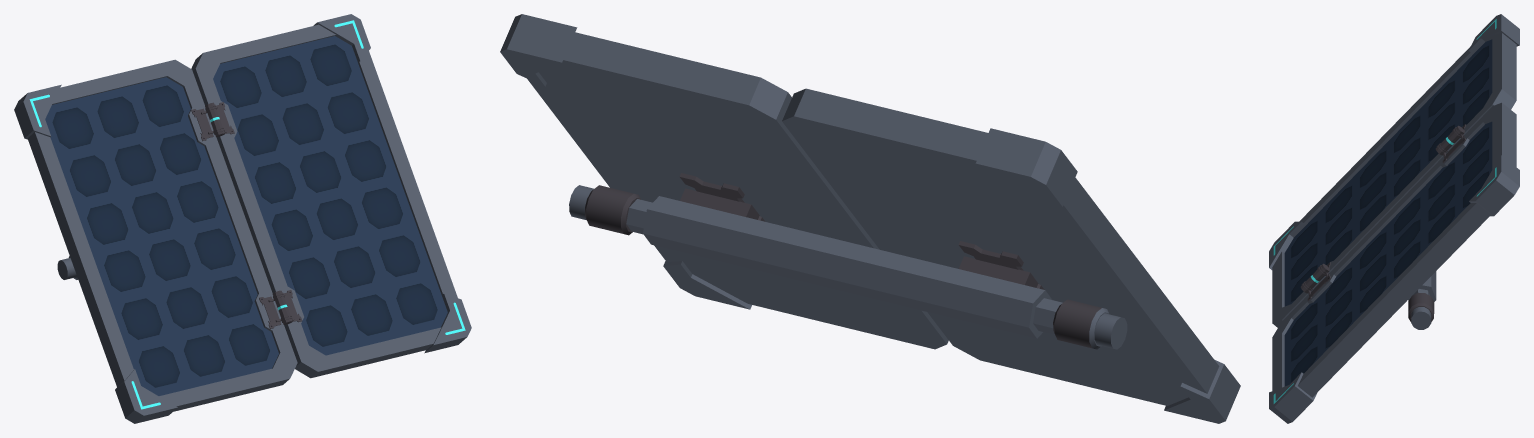
File: SM_Props_Device_11_SolarPanel.fbx
3 views of the same model, side by side, from view 1: azimuth 30°, elevation 25°; view 2: azimuth 150°, elevation 25°; view 3: azimuth 270°, elevation 25° (orthographic). The views are drawn at different scales.
Visible parts, largest first — view 1: SM_Props_Device_11_SolarPanel; view 2: SM_Props_Device_11_SolarPanel; view 3: SM_Props_Device_11_SolarPanel.
Part boxes in pixels (x1,y1,x2,y2): SM_Props_Device_11_SolarPanel: (14,14,471,423); SM_Props_Device_11_SolarPanel: (500,14,1240,423); SM_Props_Device_11_SolarPanel: (1269,14,1519,423).
Bounding box in the file's own units: 1 × 0.716 × 0.6449.
